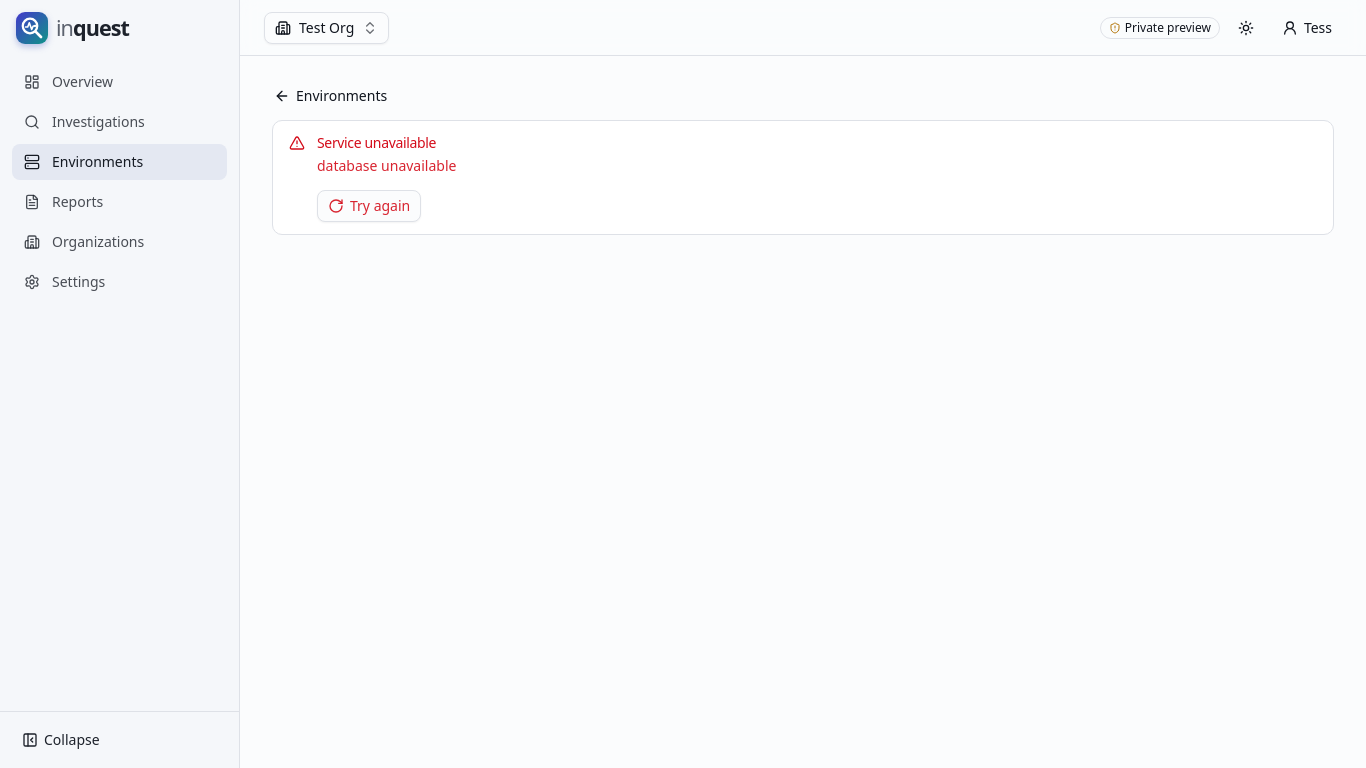
environments › handles unknown environments and retries failures
Click the button "Try again" at (369, 206), box 317,190 -> 421,222
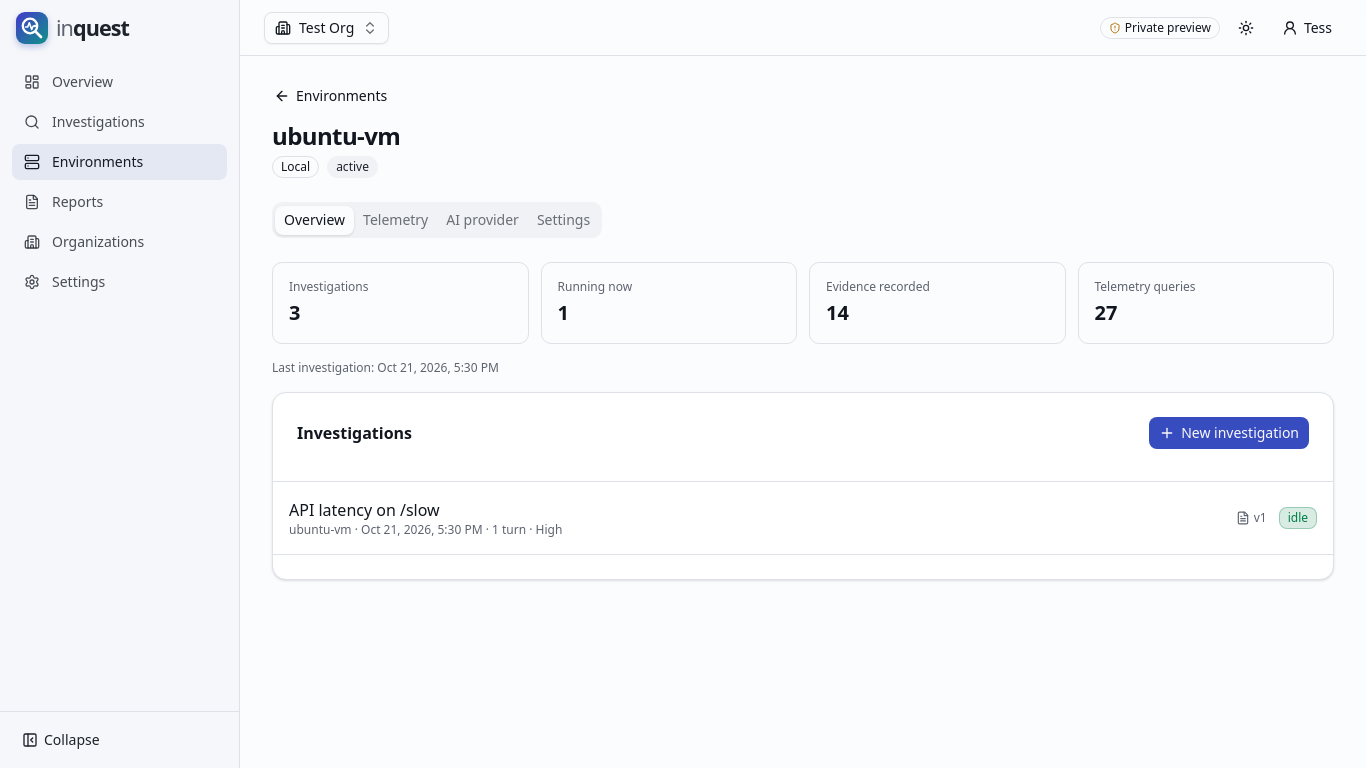
Check: the heading "ubuntu-vm" is shown, box 272,120 -> 400,152
